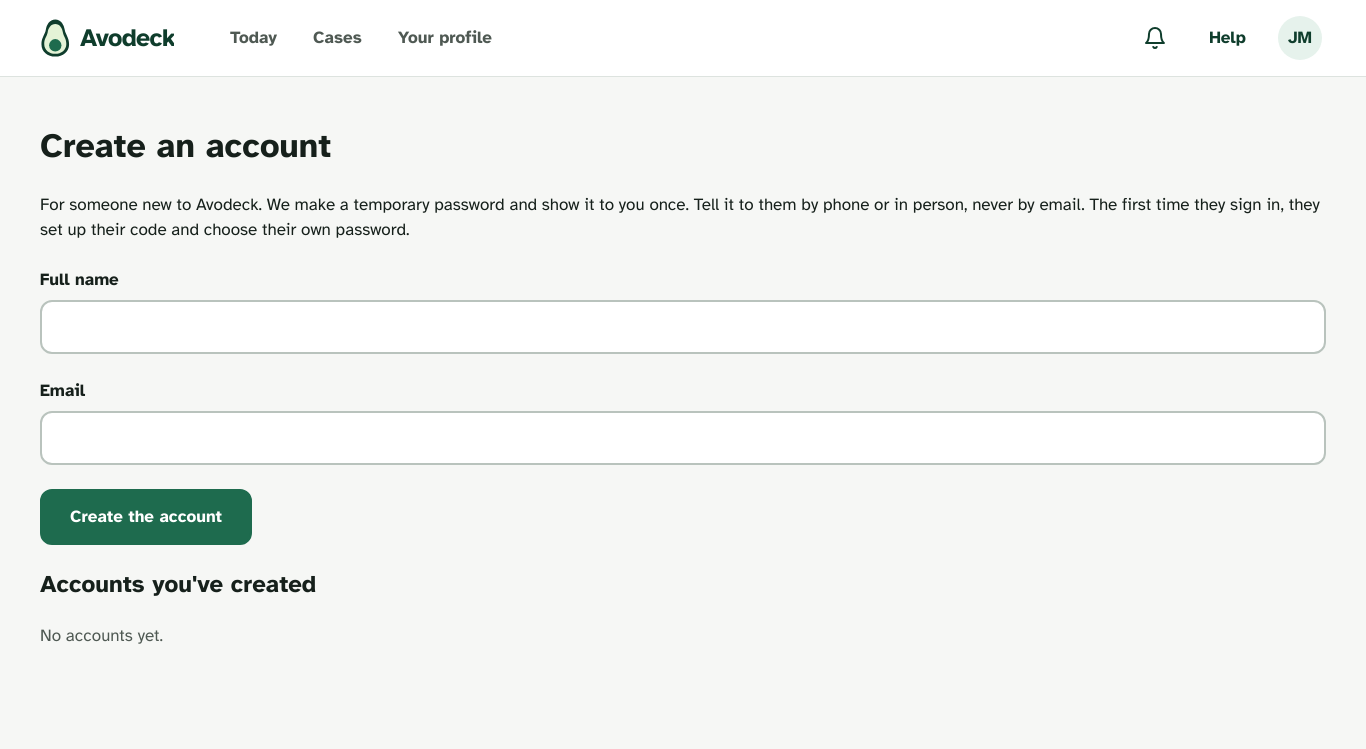
Test case: never asks for a code again: the sign-in code is enough
In the field labelled "Full name": (683, 327) [40,300,1326,354], type "Dr New Expert"
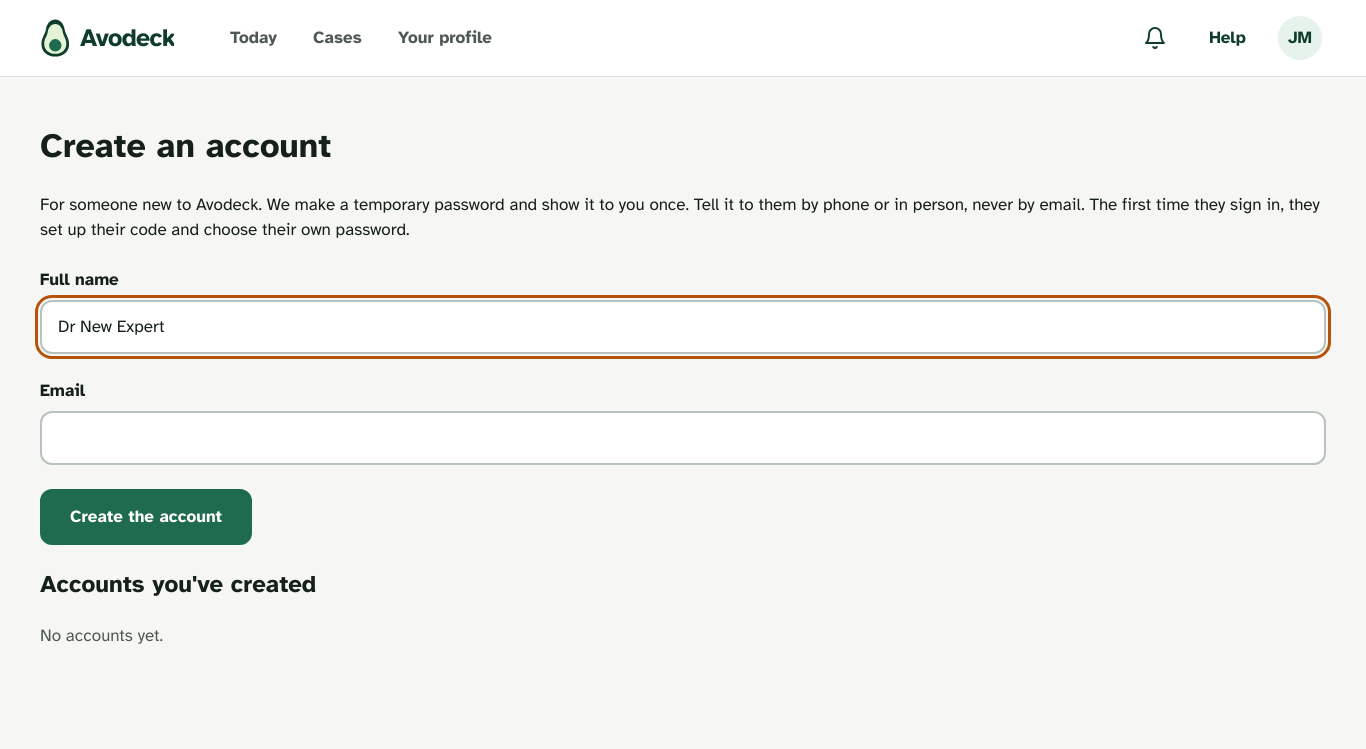
In the field labelled "Email": (683, 438) [40,411,1326,464], type "new.expert@example.test"
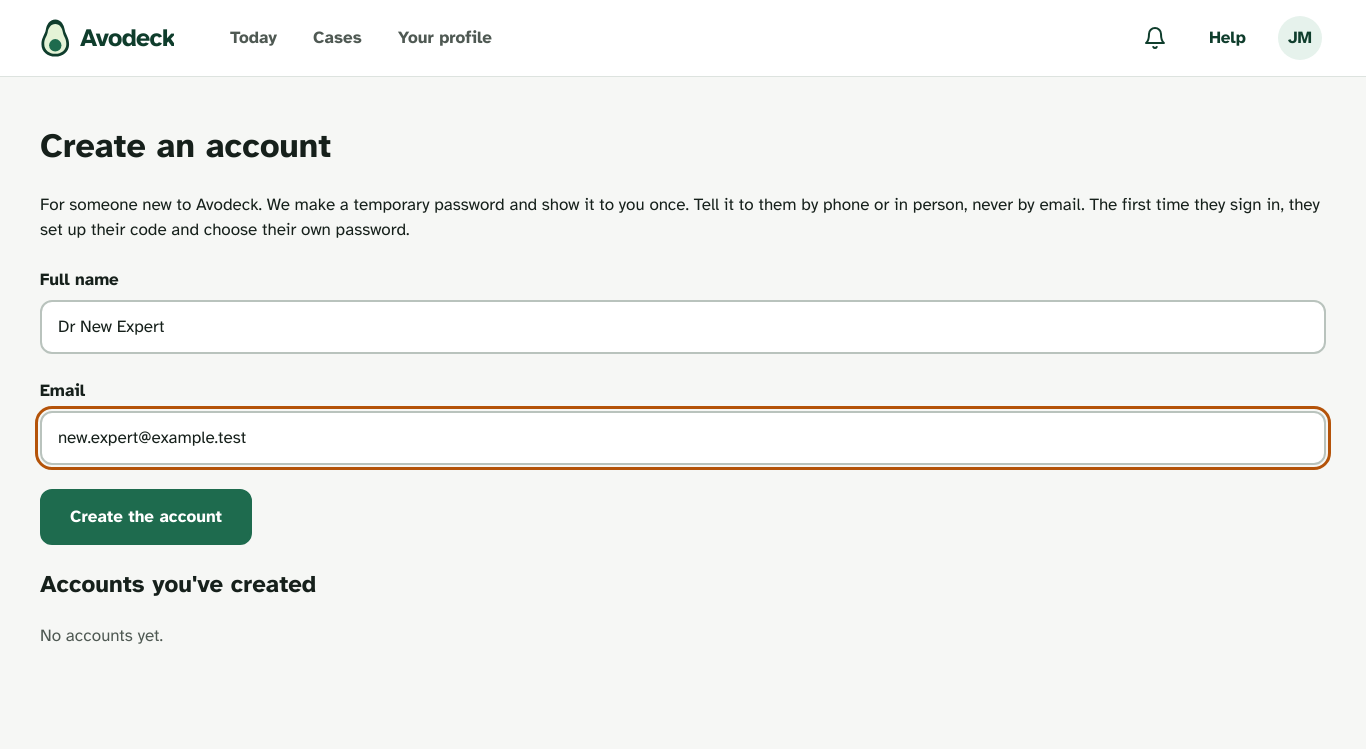
Click the button "Create the account": (146, 516) [40,488,252,544]
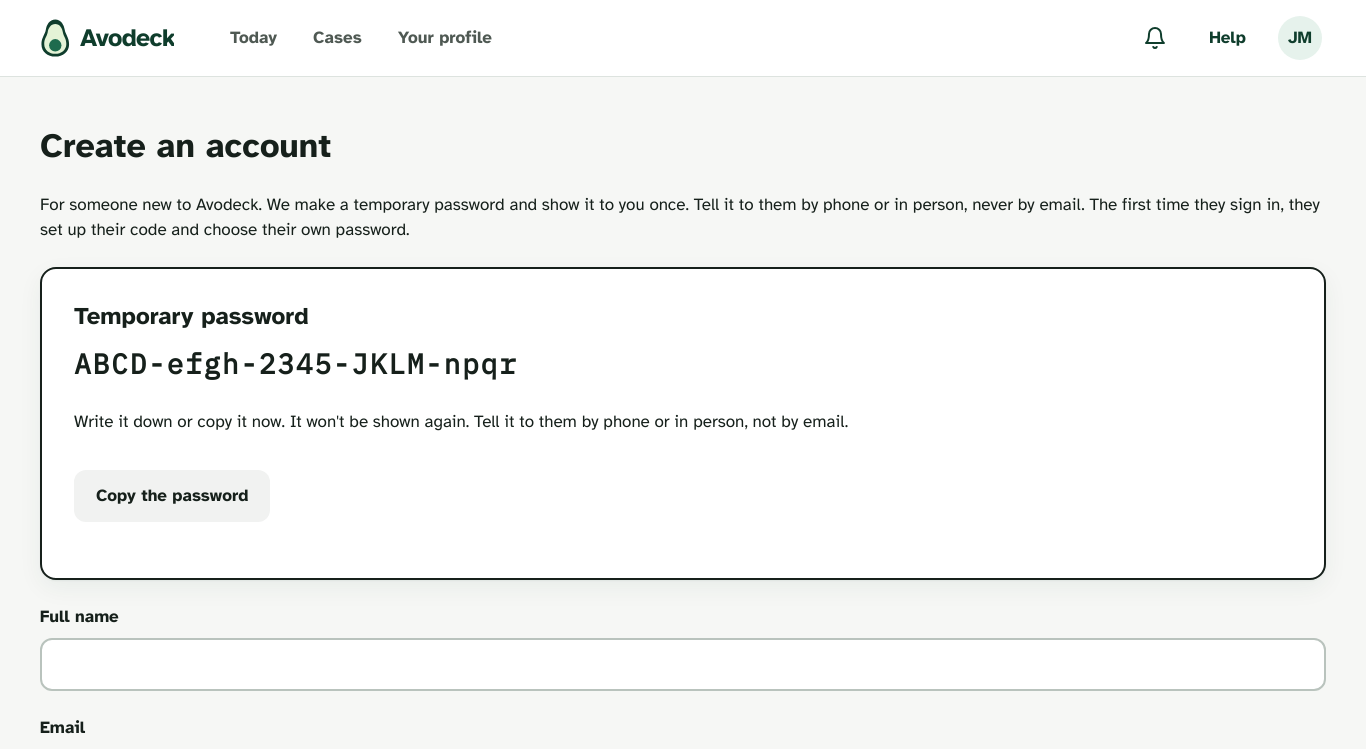
Now the element "Temporary password" is shown, box [40,266,1326,580]
